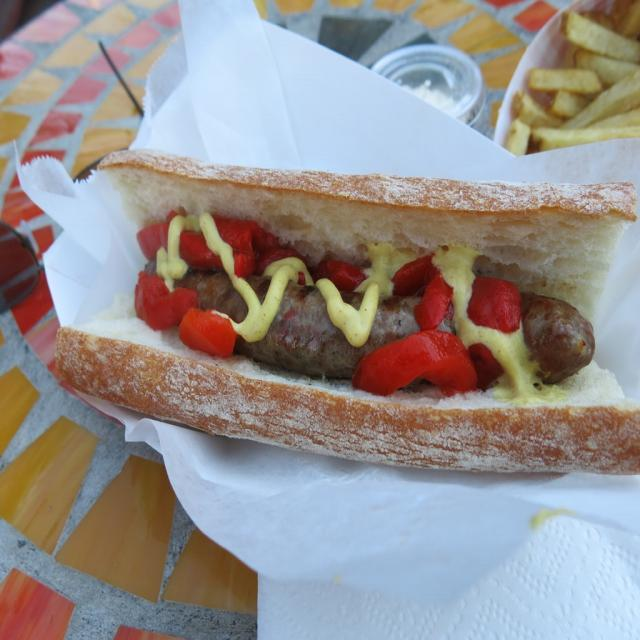Hot dog: (25, 95, 640, 461)
